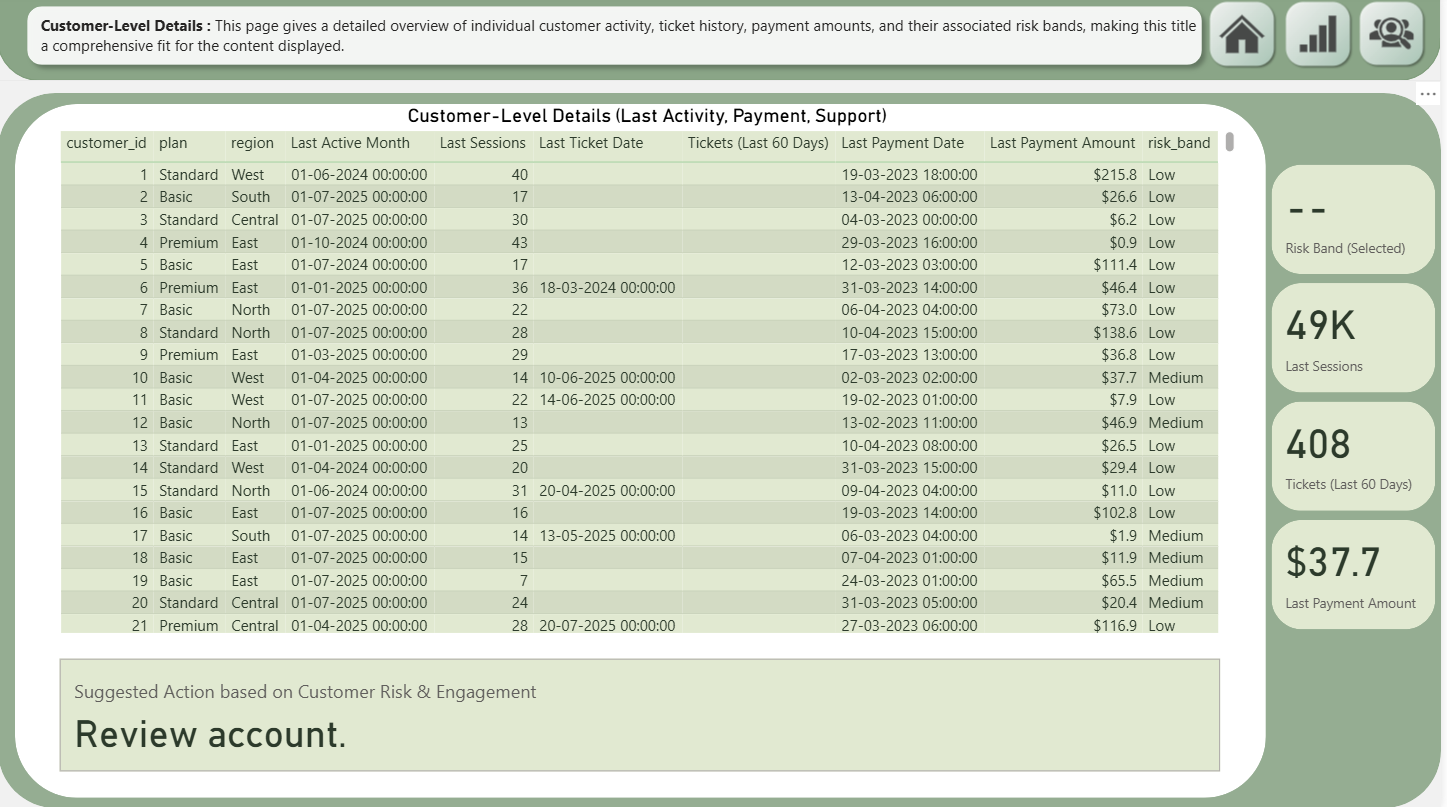

The dashboard page shown, as its layout file describes it:
{"tool":"powerbi","page":{"name":"Customer Detail","canvas":[1280,720],"ordinal":4},"visuals":[{"type":"shape","box":[0.9,86,1279.5,634],"z":0},{"type":"shape","box":[0,0,1280.4,75.4],"z":1000},{"type":"cardVisual","title":"Customer Summary Snapshot","fields":{"Data":["risk_scored_customers.Risk Band (Selected)","logins_monthly.Last Sessions","support_tickets.Tickets (Last 60 Days)","transactions.Last Payment Amount"]},"box":[1125.2,144.5,155.2,425.6],"z":2000},{"type":"actionButton","box":[1137.6,0,70,70],"z":3000},{"type":"actionButton","box":[1203.3,0,69.2,70],"z":4000},{"type":"shape","box":[16,95.8,1109.3,615.4],"z":5000},{"type":"actionButton","box":[1070.2,0,70.9,70],"z":6000},{"type":"cardVisual","title":"Next Best Action Based on Customer Risk & Engagement","fields":{"Data":["risk_scored_customers.Suggested Action"]},"box":[50.5,582.6,1039.2,110.8],"z":7000},{"type":"tableEx","title":"Customer-Level Details (Last Activity, Payment, Support)","fields":{"Values":["customers.customer_id","customers.plan","customers.region","logins_monthly.Last Active Month","logins_monthly.Last Sessions","support_tickets.Last Ticket Date","support_tickets.Tickets (Last 60 Days)","transactions.Last Payment Date","transactions.Last Payment Amount","risk_scored_customers.risk_band"]},"box":[50.5,95.8,1051.6,474.4],"z":8000},{"type":"shape","box":[17.7,0,1059.6,70],"z":10000},{"type":"textbox","box":[33.7,12.4,1036.6,51.4],"z":10500}]}

Visuals, with their boxes in screenshot pixels (x1, y1, x2, y2), scaled from the page's 1280x720 canvas onto the 1447x807 screenshot:
shape: l=1, t=96, r=1446, b=806
shape: l=0, t=0, r=1446, b=85
"Customer Summary Snapshot" cardVisual: l=1272, t=162, r=1446, b=639
actionButton: l=1286, t=0, r=1365, b=78
actionButton: l=1360, t=0, r=1439, b=78
shape: l=18, t=107, r=1272, b=797
actionButton: l=1210, t=0, r=1290, b=78
"Next Best Action Based on Customer Risk & Engagement" cardVisual: l=57, t=653, r=1232, b=777
"Customer-Level Details (Last Activity, Payment, Support)" tableEx: l=57, t=107, r=1246, b=639
shape: l=20, t=0, r=1218, b=78
textbox: l=38, t=14, r=1210, b=72
